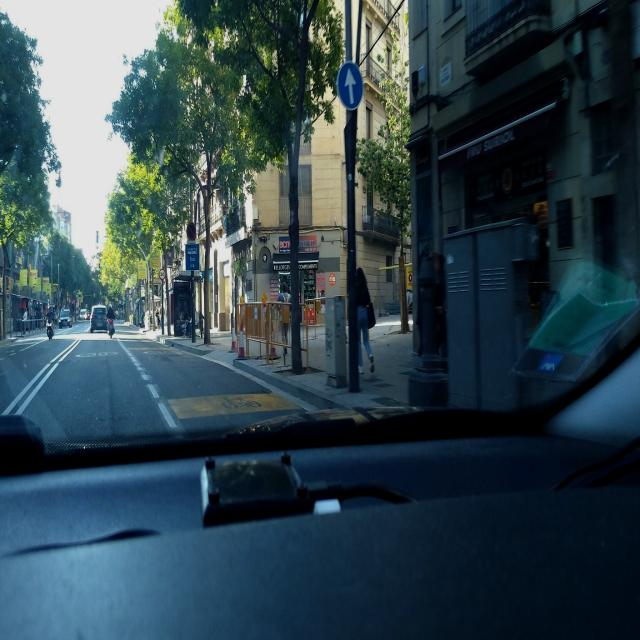car: (90, 304, 108, 334), (58, 309, 72, 329), (79, 308, 88, 320)
